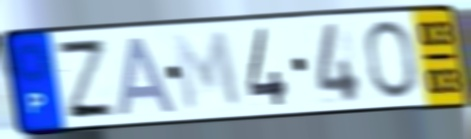4: (314, 19, 363, 106), (246, 26, 290, 109)
A: (116, 34, 181, 119)
M: (169, 28, 245, 115)
O: (362, 18, 420, 101)
Z: (52, 38, 120, 121)
